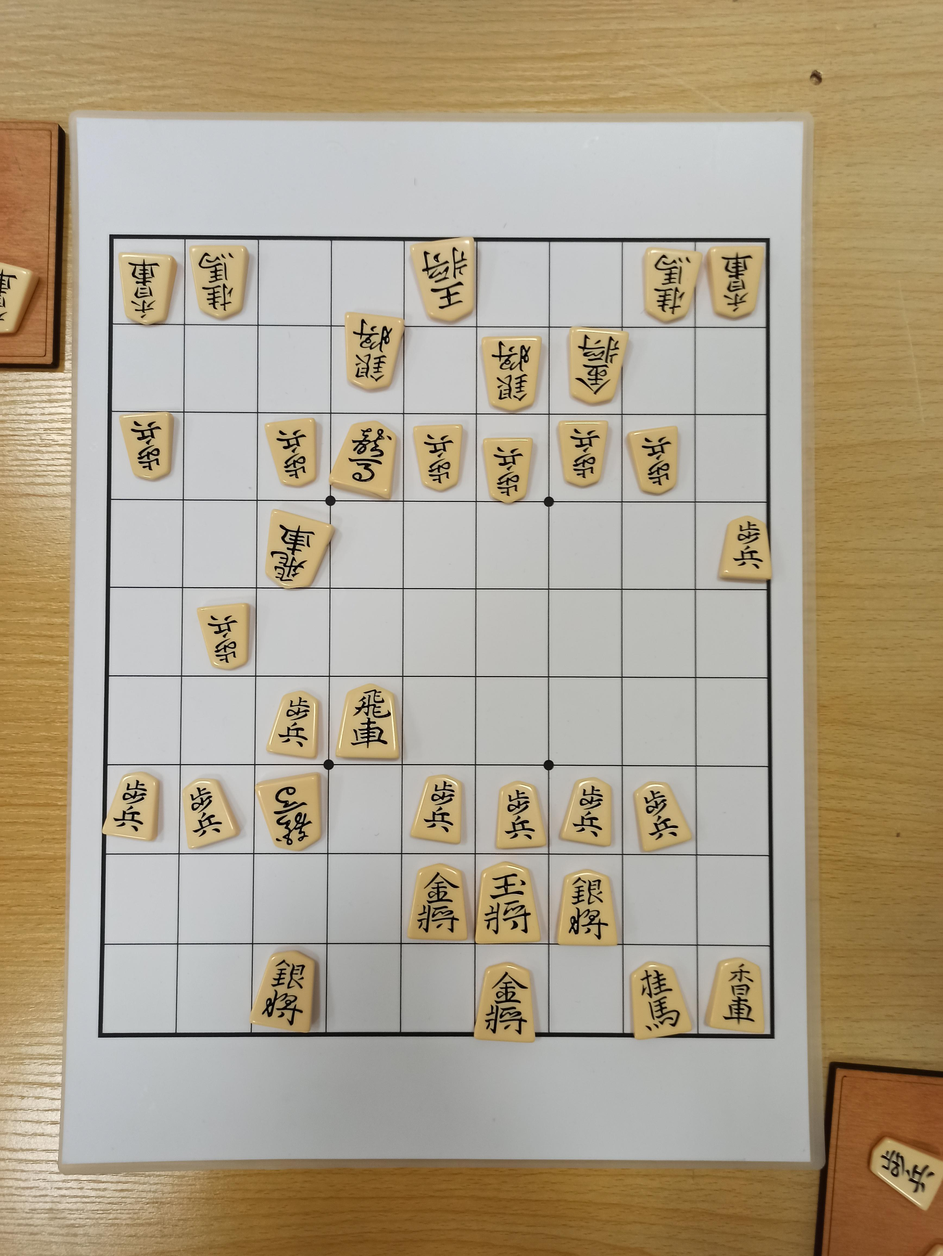board: (100, 235, 772, 1036)
